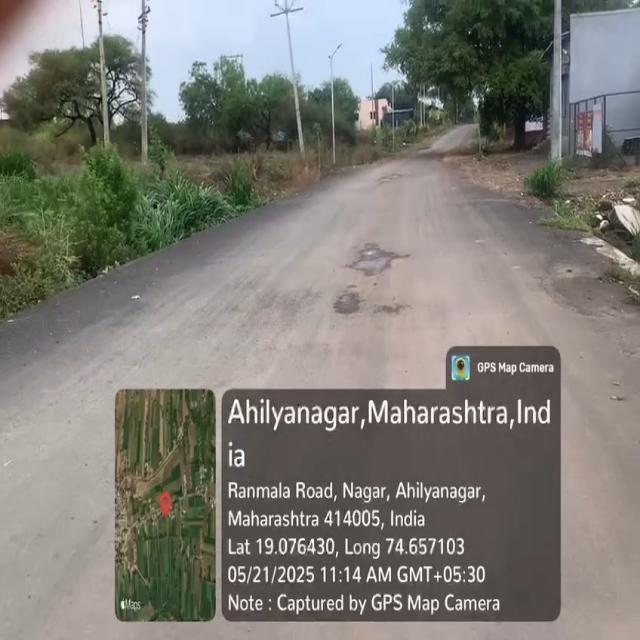damage surface: (332, 234, 411, 322)
